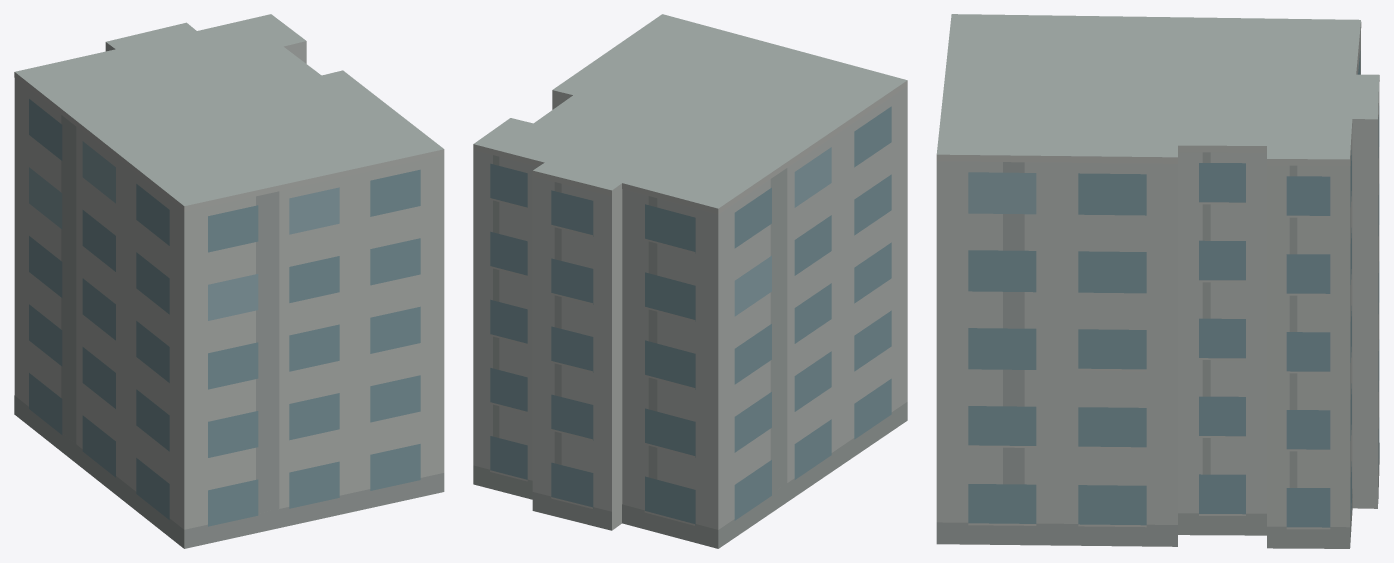
The model's file is survey-upis-32564774.glb.
3 renders of one model, left to right at view 1: azimuth 30°, elevation 25°; view 2: azimuth 150°, elevation 25°; view 3: azimuth 270°, elevation 25°, orthographic. The views are drawn at different scales.
Parts seen in each view (by area): view 1: survey-upis-32564774.tmp; view 2: survey-upis-32564774.tmp; view 3: survey-upis-32564774.tmp.
Part boxes in pixels (bbox=[...]): survey-upis-32564774.tmp: bbox=[14, 14, 444, 548]; survey-upis-32564774.tmp: bbox=[473, 14, 907, 548]; survey-upis-32564774.tmp: bbox=[936, 14, 1379, 548].
Size of the model in its own units: 11.38 by 14.2 by 14.64.
